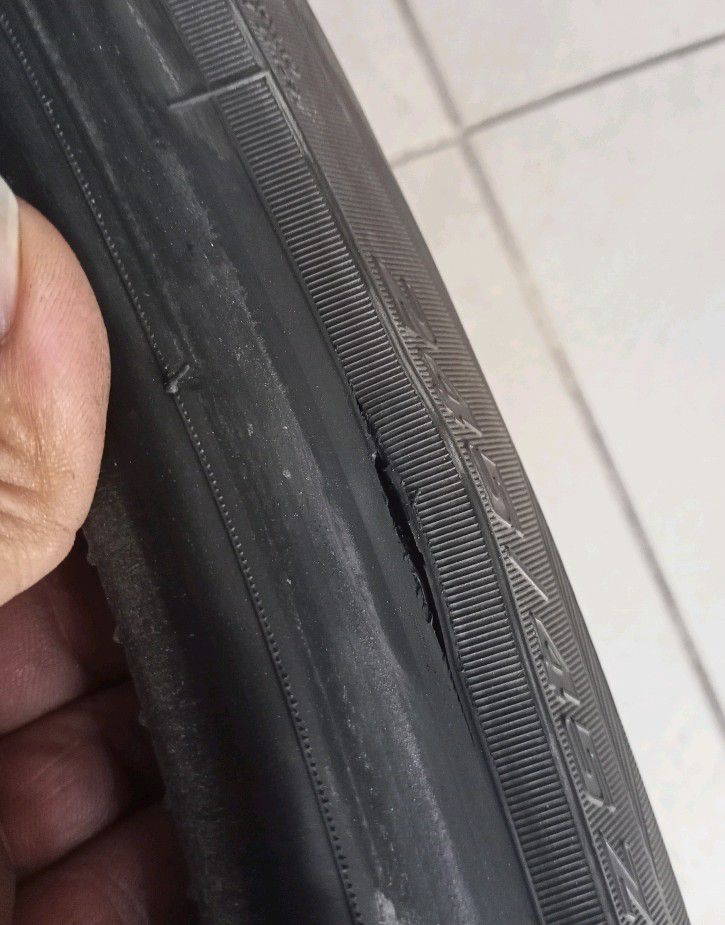cut: (354, 392, 451, 679)
